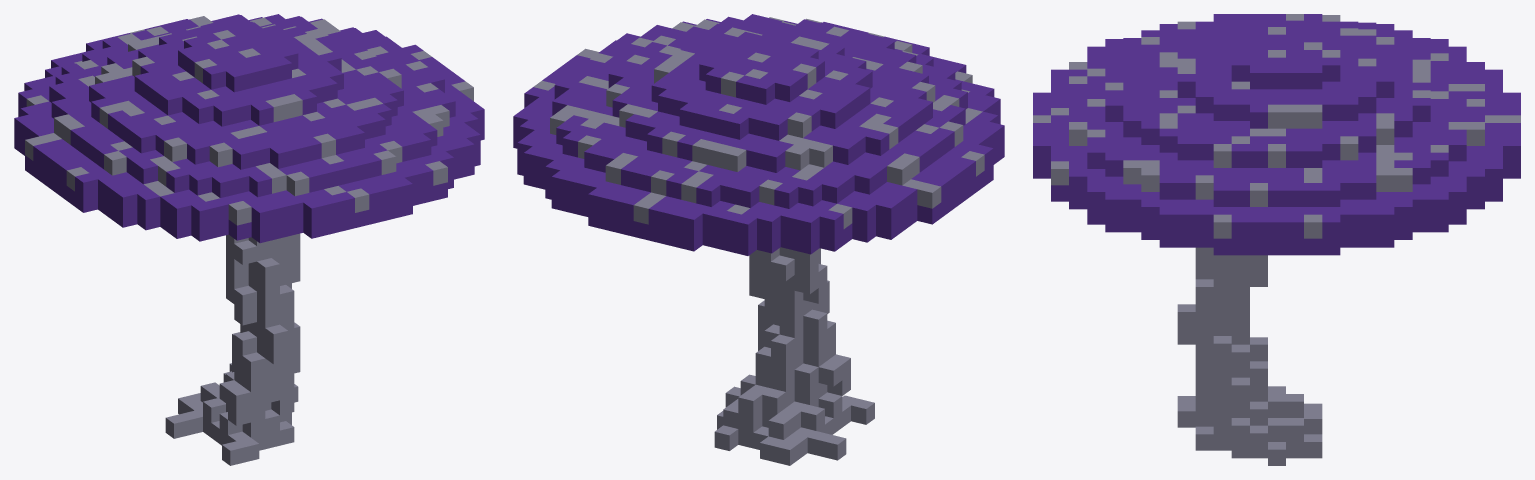
The model's file is Shroom2.FBX.
3 views of the same model, side by side, from view 1: azimuth 30°, elevation 25°; view 2: azimuth 150°, elevation 25°; view 3: azimuth 270°, elevation 25° (orthographic). The views are drawn at different scales.
Parts seen in each view (by area): view 1: Shroom2; view 2: Shroom2; view 3: Shroom2.
Boxes of the visible parts, left/top/right/bottom form: Shroom2: left=14, top=14, right=484, bottom=465; Shroom2: left=513, top=14, right=1004, bottom=465; Shroom2: left=1033, top=14, right=1520, bottom=465.
Size of the model in its own units: 27 by 24 by 27.
